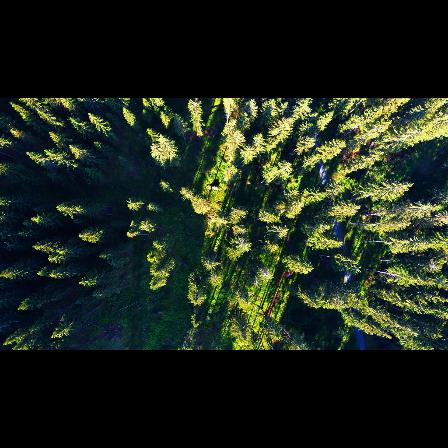Sick: (207, 272, 226, 287), (258, 269, 276, 284)
